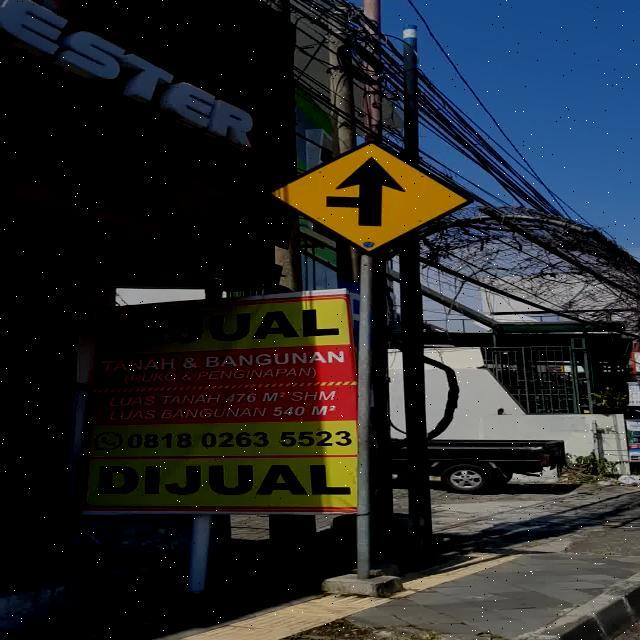Persimpangan 3 Prioritas Kiri: (266, 139, 475, 256)
